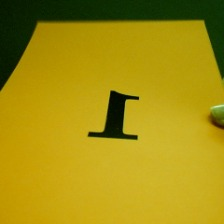orange1: (83, 87, 148, 147)
